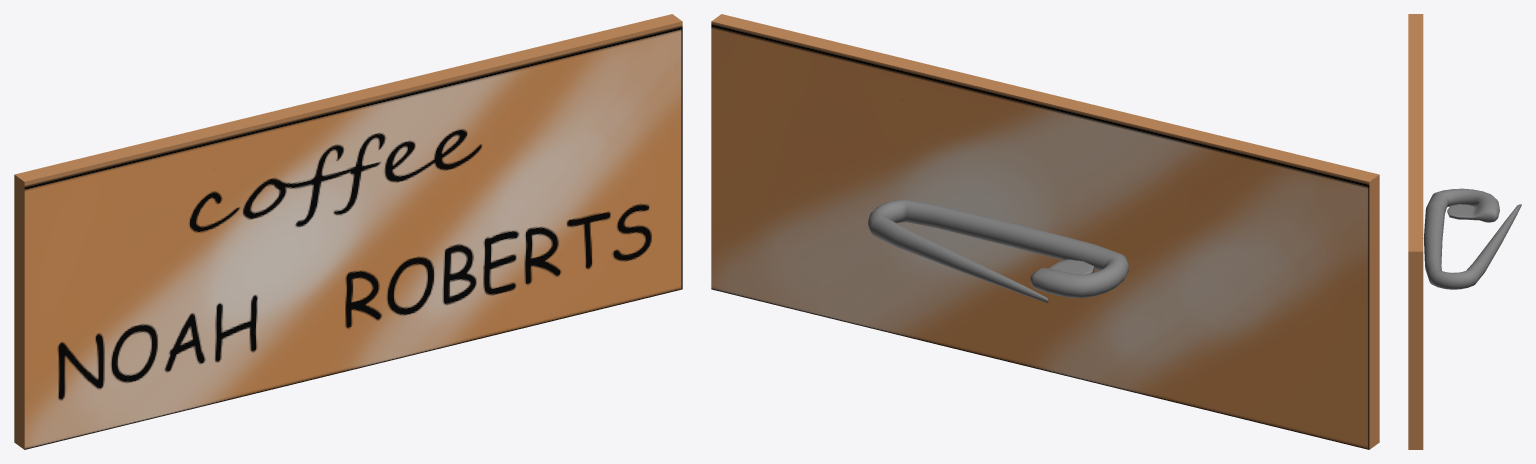
Rendered from targeta.fbx.
The picture shows the model from 3 angles, left to right: view 1: azimuth 30°, elevation 25°; view 2: azimuth 150°, elevation 25°; view 3: azimuth 270°, elevation 25°; orthographic projection. The views are drawn at different scales.
Visible parts, largest first — view 1: targeta2; view 2: targeta2; view 3: targeta2.
Part boxes in pixels (bbox=[...]): targeta2: bbox=[14, 14, 682, 449]; targeta2: bbox=[711, 14, 1379, 449]; targeta2: bbox=[1408, 14, 1521, 449].
Bounding box in the file's own units: 8.81 × 3.43 × 1.77.
2 materials, 1 textured.
